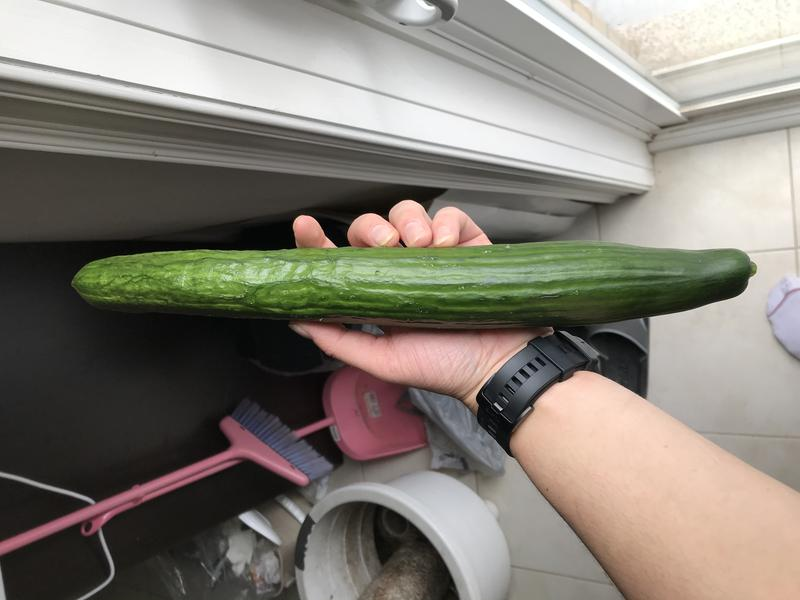cucumber: (53, 232, 771, 341)
